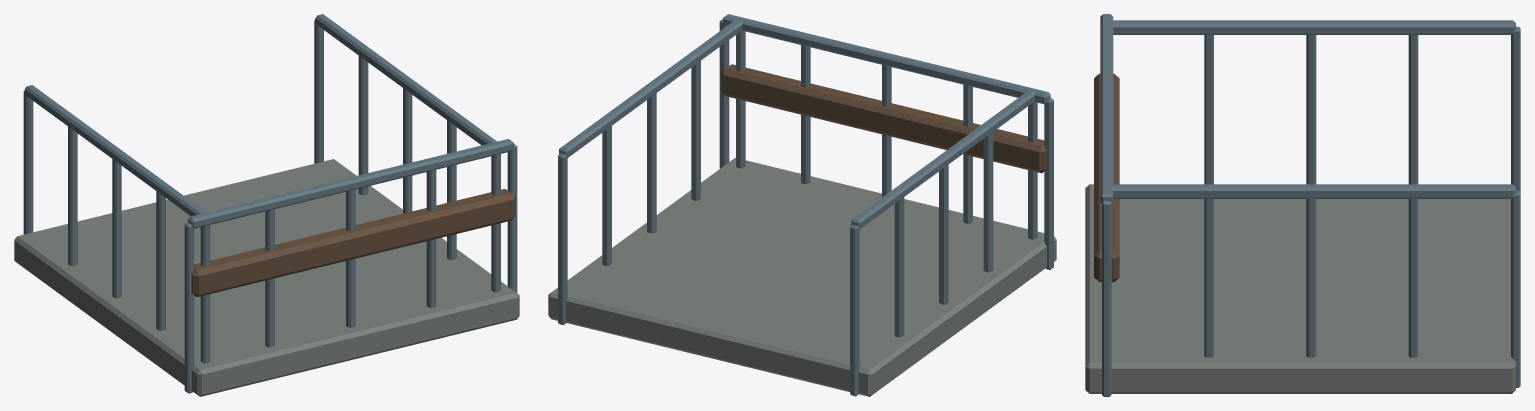
Rendered from architecture-village-balcony.lod0.glb.
The picture shows the model from 3 angles, left to right: view 1: azimuth 30°, elevation 25°; view 2: azimuth 150°, elevation 25°; view 3: azimuth 270°, elevation 25°; orthographic projection. The views are drawn at different scales.
Visible parts, largest first — view 1: architecture-village-balcony__body; view 2: architecture-village-balcony__body; view 3: architecture-village-balcony__body.
Part boxes in pixels (x1=…): architecture-village-balcony__body: x1=14, y1=14, x2=519, y2=396; architecture-village-balcony__body: x1=548, y1=14, x2=1056, y2=396; architecture-village-balcony__body: x1=1085, y1=14, x2=1520, y2=396.
Bounding box in the file's own units: 2.05 × 1.03 × 2.02.
